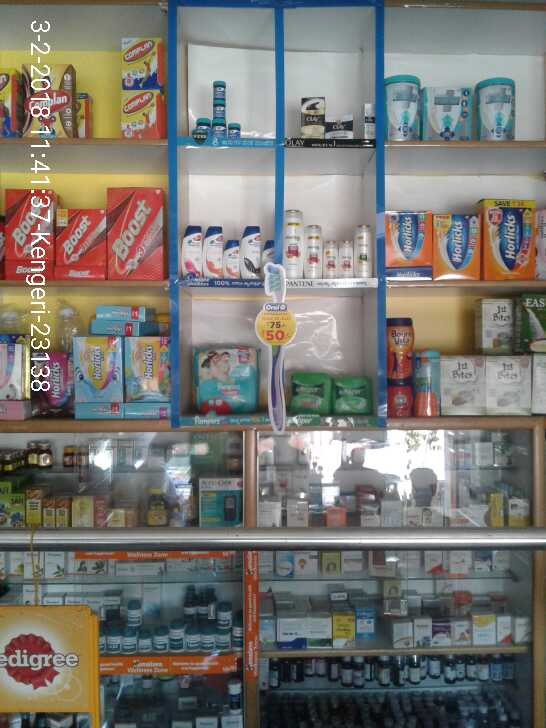beauty: (238, 220, 267, 279), (298, 219, 324, 280), (290, 94, 324, 139), (349, 219, 371, 284), (203, 221, 223, 285), (284, 204, 299, 287), (321, 236, 351, 275), (181, 222, 200, 280), (321, 113, 355, 142), (224, 240, 239, 280)
pharmacy: (194, 343, 262, 421), (190, 79, 242, 135), (330, 370, 377, 415), (292, 365, 329, 420)
